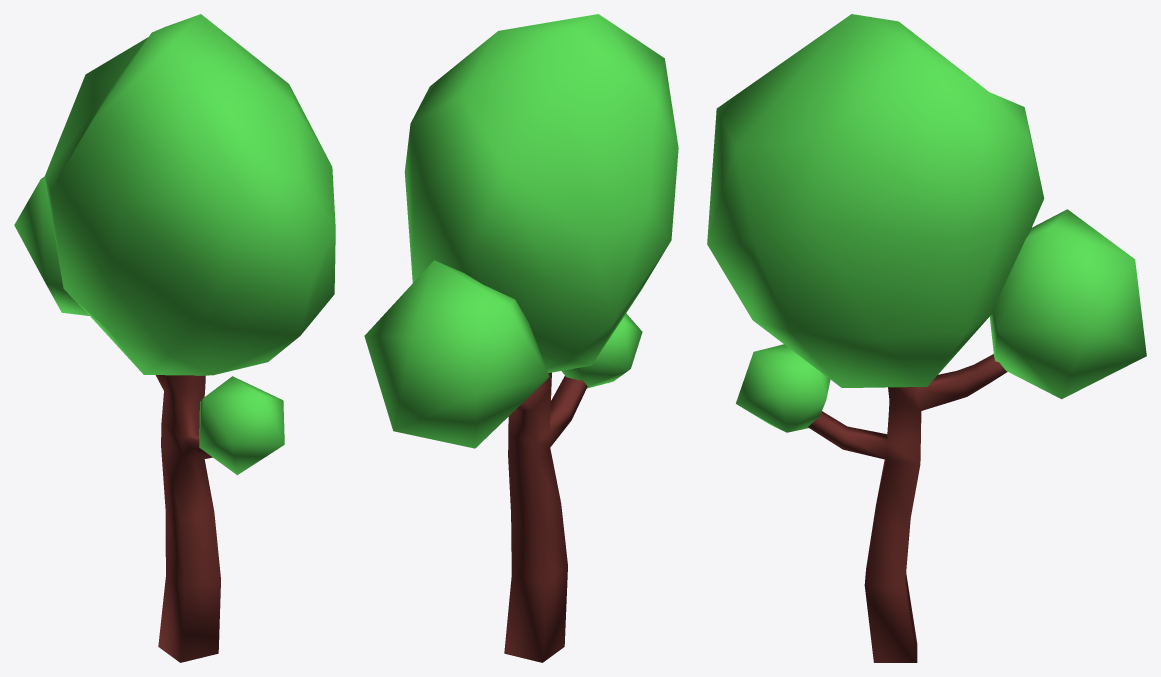
The model's file is Boom_var3.glb.
3 views of the same model, side by side, from view 1: azimuth 30°, elevation 25°; view 2: azimuth 150°, elevation 25°; view 3: azimuth 270°, elevation 25° (orthographic).
Visible parts, largest first — view 1: Tree 2; view 2: Tree 2; view 3: Tree 2.
Boxes of the visible parts, box(x1,y1,x2,y2) form: Tree 2: box(14, 14, 335, 662); Tree 2: box(364, 14, 678, 662); Tree 2: box(707, 14, 1146, 662).
Bounding box in the file's own units: 2.57 × 6.67 × 4.29.
